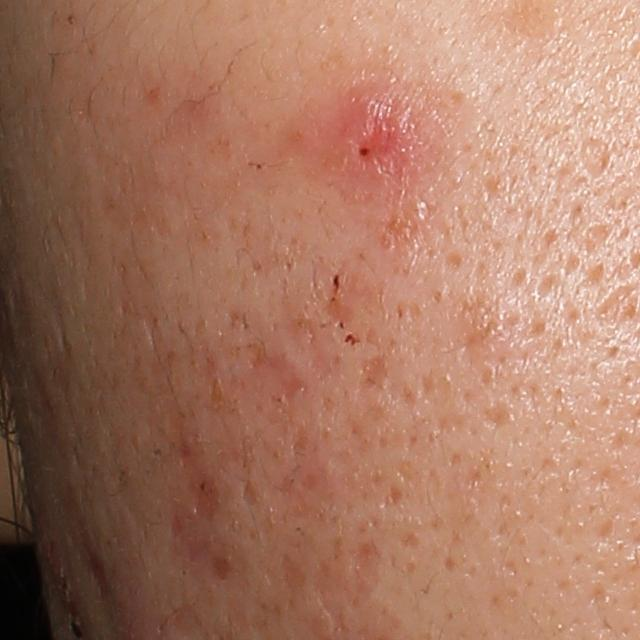atrophic_scar: (245, 348, 309, 400), (343, 537, 383, 604), (579, 133, 616, 181), (191, 474, 223, 522), (208, 557, 241, 586), (360, 353, 387, 387), (283, 550, 303, 593), (240, 478, 260, 509)
papule: (321, 75, 427, 193)
